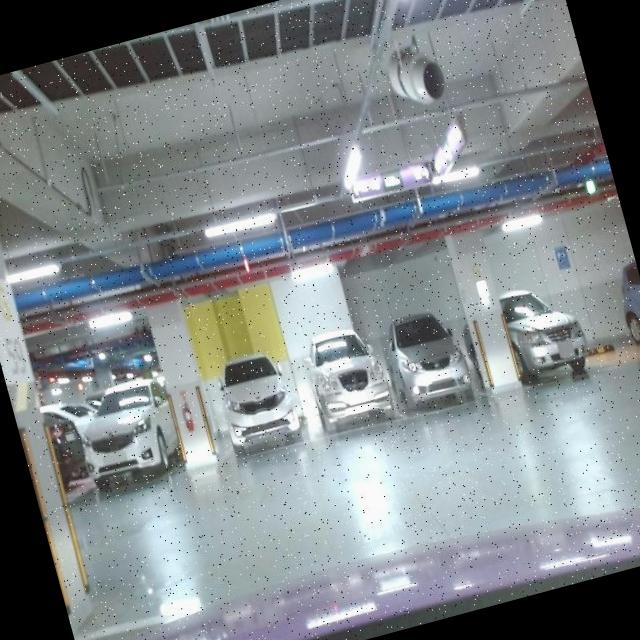car: (68, 375, 186, 489), (498, 279, 596, 400), (303, 330, 402, 444), (384, 308, 482, 417), (218, 356, 304, 462)
